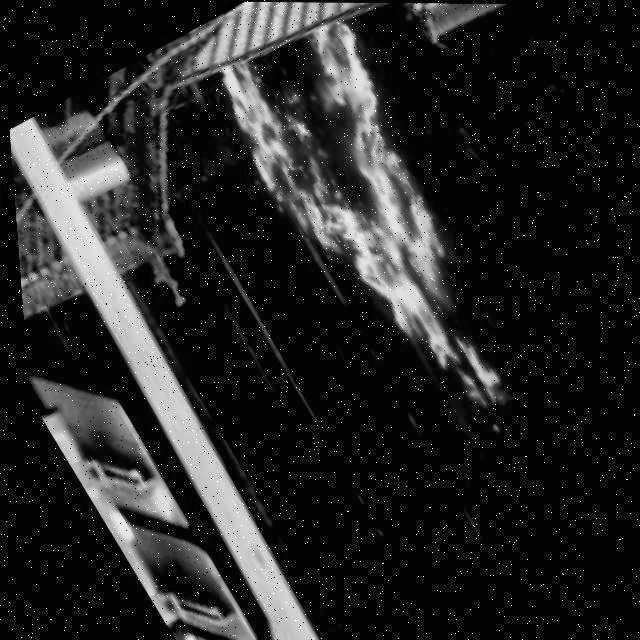Fire: (191, 2, 549, 434)
